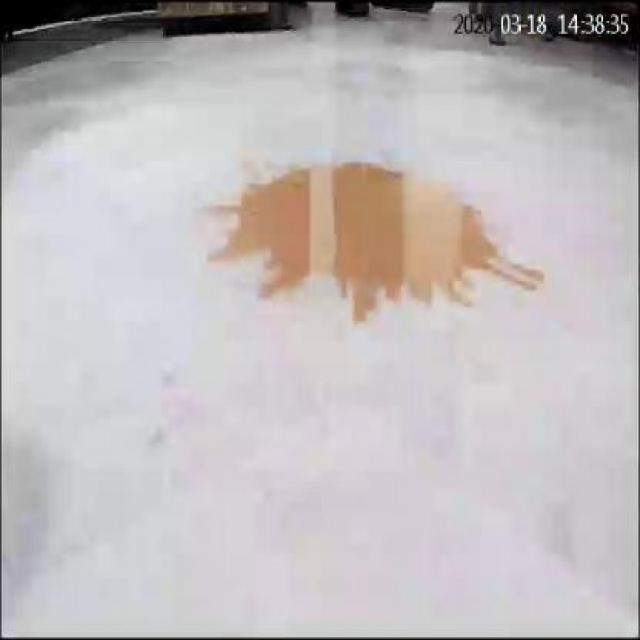spill: (210, 156, 544, 319)
